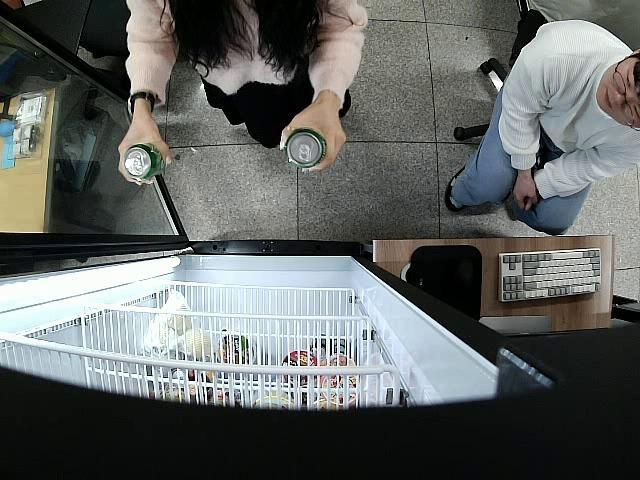12_chilsungCider: (286, 128, 328, 168), (124, 144, 166, 181)
